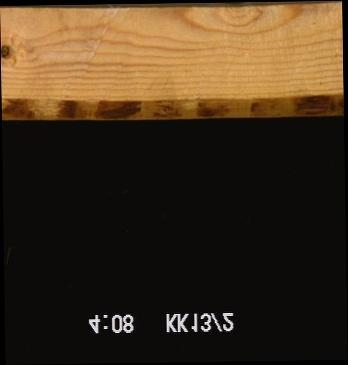dry_knot: (0, 43, 9, 60)
wave: (1, 87, 343, 119)
